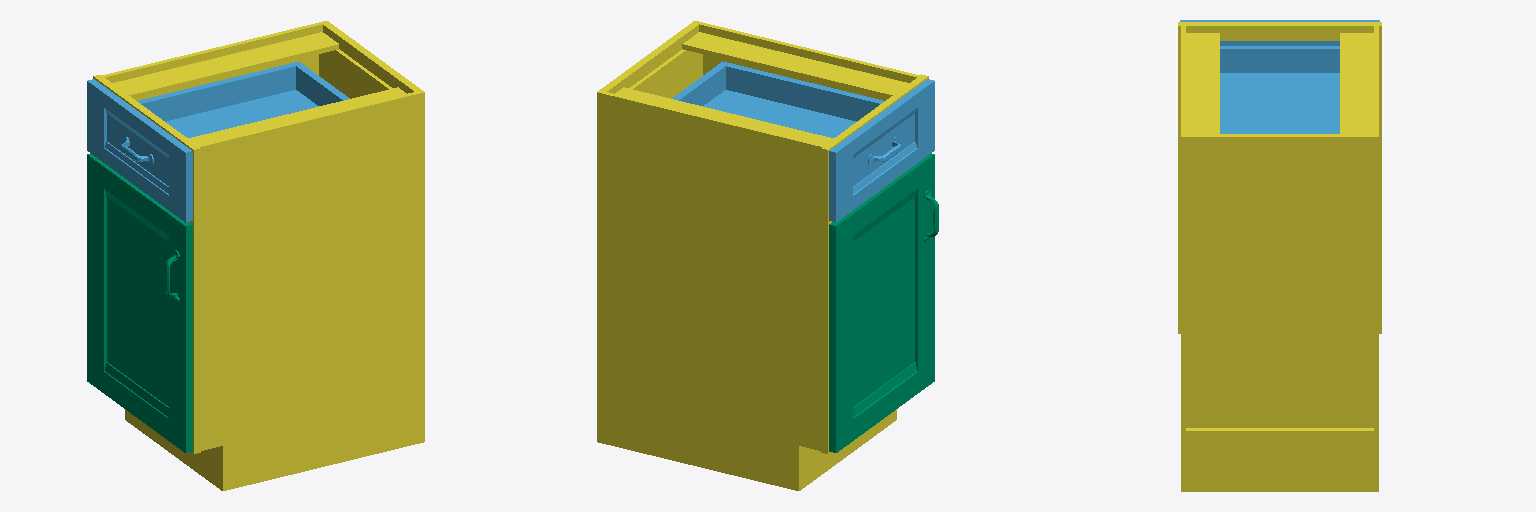
robot.urdf — partnet_1767bd876a8b8c6e4da5feafe6f1c8fc:
<?xml version="1.0" ?>
<robot name="partnet_1767bd876a8b8c6e4da5feafe6f1c8fc">
	<link name="base"/>
	<link name="link_0">
		<visual name="drawer_side-9">
			<origin xyz="0.014150326550357542 -0.537586949200996 -0.49205100536346436"/>
			<geometry>
				<mesh filename="textured_objs/original-30.obj"/>
			</geometry>
		</visual>
		<visual name="drawer_side-10">
			<origin xyz="0.014150326550357542 -0.537586949200996 -0.49205100536346436"/>
			<geometry>
				<mesh filename="textured_objs/original-25.obj"/>
			</geometry>
		</visual>
		<visual name="drawer_back-11">
			<origin xyz="0.014150326550357542 -0.537586949200996 -0.49205100536346436"/>
			<geometry>
				<mesh filename="textured_objs/original-31.obj"/>
			</geometry>
		</visual>
		<visual name="drawer_bottom-12">
			<origin xyz="0.014150326550357542 -0.537586949200996 -0.49205100536346436"/>
			<geometry>
				<mesh filename="textured_objs/original-29.obj"/>
			</geometry>
		</visual>
		<visual name="drawer_bottom-12">
			<origin xyz="0.014150326550357542 -0.537586949200996 -0.49205100536346436"/>
			<geometry>
				<mesh filename="textured_objs/original-28.obj"/>
			</geometry>
		</visual>
		<visual name="drawer_front-13">
			<origin xyz="0.014150326550357542 -0.537586949200996 -0.49205100536346436"/>
			<geometry>
				<mesh filename="textured_objs/original-39.obj"/>
			</geometry>
		</visual>
		<visual name="drawer_front-13">
			<origin xyz="0.014150326550357542 -0.537586949200996 -0.49205100536346436"/>
			<geometry>
				<mesh filename="textured_objs/original-26.obj"/>
			</geometry>
		</visual>
		<visual name="drawer_front-14">
			<origin xyz="0.014150326550357542 -0.537586949200996 -0.49205100536346436"/>
			<geometry>
				<mesh filename="textured_objs/original-40.obj"/>
			</geometry>
		</visual>
		<visual name="drawer_front-14">
			<origin xyz="0.014150326550357542 -0.537586949200996 -0.49205100536346436"/>
			<geometry>
				<mesh filename="textured_objs/original-34.obj"/>
			</geometry>
		</visual>
		<visual name="drawer_front-14">
			<origin xyz="0.014150326550357542 -0.537586949200996 -0.49205100536346436"/>
			<geometry>
				<mesh filename="textured_objs/original-37.obj"/>
			</geometry>
		</visual>
		<visual name="drawer_front-14">
			<origin xyz="0.014150326550357542 -0.537586949200996 -0.49205100536346436"/>
			<geometry>
				<mesh filename="textured_objs/original-35.obj"/>
			</geometry>
		</visual>
		<visual name="drawer_front-14">
			<origin xyz="0.014150326550357542 -0.537586949200996 -0.49205100536346436"/>
			<geometry>
				<mesh filename="textured_objs/original-36.obj"/>
			</geometry>
		</visual>
		<visual name="other_leaf-16">
			<origin xyz="0.014150326550357542 -0.537586949200996 -0.49205100536346436"/>
			<geometry>
				<mesh filename="textured_objs/original-32.obj"/>
			</geometry>
		</visual>
		<visual name="handle-6">
			<origin xyz="0.014150326550357542 -0.537586949200996 -0.49205100536346436"/>
			<geometry>
				<mesh filename="textured_objs/original-41.obj"/>
			</geometry>
		</visual>
		<collision>
			<origin xyz="0.014150326550357542 -0.537586949200996 -0.49205100536346436"/>
			<geometry>
				<mesh filename="textured_objs/original-30.obj"/>
			</geometry>
		</collision>
		<collision>
			<origin xyz="0.014150326550357542 -0.537586949200996 -0.49205100536346436"/>
			<geometry>
				<mesh filename="textured_objs/original-25.obj"/>
			</geometry>
		</collision>
		<collision>
			<origin xyz="0.014150326550357542 -0.537586949200996 -0.49205100536346436"/>
			<geometry>
				<mesh filename="textured_objs/original-31.obj"/>
			</geometry>
		</collision>
		<collision>
			<origin xyz="0.014150326550357542 -0.537586949200996 -0.49205100536346436"/>
			<geometry>
				<mesh filename="textured_objs/original-29.obj"/>
			</geometry>
		</collision>
		<collision>
			<origin xyz="0.014150326550357542 -0.537586949200996 -0.49205100536346436"/>
			<geometry>
				<mesh filename="textured_objs/original-28.obj"/>
			</geometry>
		</collision>
		<collision>
			<origin xyz="0.014150326550357542 -0.537586949200996 -0.49205100536346436"/>
			<geometry>
				<mesh filename="textured_objs/original-39.obj"/>
			</geometry>
		</collision>
		<collision>
			<origin xyz="0.014150326550357542 -0.537586949200996 -0.49205100536346436"/>
			<geometry>
				<mesh filename="textured_objs/original-26.obj"/>
			</geometry>
		</collision>
		<collision>
			<origin xyz="0.014150326550357542 -0.537586949200996 -0.49205100536346436"/>
			<geometry>
				<mesh filename="textured_objs/original-40.obj"/>
			</geometry>
		</collision>
		<collision>
			<origin xyz="0.014150326550357542 -0.537586949200996 -0.49205100536346436"/>
			<geometry>
				<mesh filename="textured_objs/original-34.obj"/>
			</geometry>
		</collision>
		<collision>
			<origin xyz="0.014150326550357542 -0.537586949200996 -0.49205100536346436"/>
			<geometry>
				<mesh filename="textured_objs/original-37.obj"/>
			</geometry>
		</collision>
		<collision>
			<origin xyz="0.014150326550357542 -0.537586949200996 -0.49205100536346436"/>
			<geometry>
				<mesh filename="textured_objs/original-35.obj"/>
			</geometry>
		</collision>
		<collision>
			<origin xyz="0.014150326550357542 -0.537586949200996 -0.49205100536346436"/>
			<geometry>
				<mesh filename="textured_objs/original-36.obj"/>
			</geometry>
		</collision>
		<collision>
			<origin xyz="0.014150326550357542 -0.537586949200996 -0.49205100536346436"/>
			<geometry>
				<mesh filename="textured_objs/original-32.obj"/>
			</geometry>
		</collision>
		<collision>
			<origin xyz="0.014150326550357542 -0.537586949200996 -0.49205100536346436"/>
			<geometry>
				<mesh filename="textured_objs/original-41.obj"/>
			</geometry>
		</collision>
	</link>
	<joint name="joint_0" type="prismatic">
		<origin xyz="-0.014150326550357542 0.537586949200996 0.49205100536346436"/>
		<axis xyz="0 0 1"/>
		<child link="link_0"/>
		<parent link="link_2"/>
		<limit lower="0" upper="0.7599999999999998"/>
	</joint>
	<link name="link_1">
		<visual name="cabinet_door_surface-24">
			<origin xyz="0.3576991815647425 0.5905939936637881 -0.4915551643686961"/>
			<geometry>
				<mesh filename="textured_objs/original-49.obj"/>
			</geometry>
		</visual>
		<visual name="cabinet_door_surface-24">
			<origin xyz="0.3576991815647425 0.5905939936637881 -0.4915551643686961"/>
			<geometry>
				<mesh filename="textured_objs/original-43.obj"/>
			</geometry>
		</visual>
		<visual name="cabinet_door_surface-24">
			<origin xyz="0.3576991815647425 0.5905939936637881 -0.4915551643686961"/>
			<geometry>
				<mesh filename="textured_objs/original-44.obj"/>
			</geometry>
		</visual>
		<visual name="cabinet_door_surface-24">
			<origin xyz="0.3576991815647425 0.5905939936637881 -0.4915551643686961"/>
			<geometry>
				<mesh filename="textured_objs/original-45.obj"/>
			</geometry>
		</visual>
		<visual name="cabinet_door_surface-24">
			<origin xyz="0.3576991815647425 0.5905939936637881 -0.4915551643686961"/>
			<geometry>
				<mesh filename="textured_objs/original-46.obj"/>
			</geometry>
		</visual>
		<visual name="cabinet_door_surface-24">
			<origin xyz="0.3576991815647425 0.5905939936637881 -0.4915551643686961"/>
			<geometry>
				<mesh filename="textured_objs/original-48.obj"/>
			</geometry>
		</visual>
		<visual name="handle-25">
			<origin xyz="0.3576991815647425 0.5905939936637881 -0.4915551643686961"/>
			<geometry>
				<mesh filename="textured_objs/original-50.obj"/>
			</geometry>
		</visual>
		<collision>
			<origin xyz="0.3576991815647425 0.5905939936637881 -0.4915551643686961"/>
			<geometry>
				<mesh filename="textured_objs/original-49.obj"/>
			</geometry>
		</collision>
		<collision>
			<origin xyz="0.3576991815647425 0.5905939936637881 -0.4915551643686961"/>
			<geometry>
				<mesh filename="textured_objs/original-43.obj"/>
			</geometry>
		</collision>
		<collision>
			<origin xyz="0.3576991815647425 0.5905939936637881 -0.4915551643686961"/>
			<geometry>
				<mesh filename="textured_objs/original-44.obj"/>
			</geometry>
		</collision>
		<collision>
			<origin xyz="0.3576991815647425 0.5905939936637881 -0.4915551643686961"/>
			<geometry>
				<mesh filename="textured_objs/original-45.obj"/>
			</geometry>
		</collision>
		<collision>
			<origin xyz="0.3576991815647425 0.5905939936637881 -0.4915551643686961"/>
			<geometry>
				<mesh filename="textured_objs/original-46.obj"/>
			</geometry>
		</collision>
		<collision>
			<origin xyz="0.3576991815647425 0.5905939936637881 -0.4915551643686961"/>
			<geometry>
				<mesh filename="textured_objs/original-48.obj"/>
			</geometry>
		</collision>
		<collision>
			<origin xyz="0.3576991815647425 0.5905939936637881 -0.4915551643686961"/>
			<geometry>
				<mesh filename="textured_objs/original-50.obj"/>
			</geometry>
		</collision>
	</link>
	<joint name="joint_1" type="revolute">
		<origin xyz="-0.3576991815647425 -0.5905939936637881 0.4915551643686961"/>
		<axis xyz="0 -1 0"/>
		<child link="link_1"/>
		<parent link="link_2"/>
		<limit lower="0.0" upper="1.5707963267948966"/>
	</joint>
	<link name="link_2">
		<visual name="shelf-27">
			<origin xyz="0 0 0"/>
			<geometry>
				<mesh filename="textured_objs/original-2.obj"/>
			</geometry>
		</visual>
		<visual name="base_side_panel-18">
			<origin xyz="0 0 0"/>
			<geometry>
				<mesh filename="textured_objs/original-17.obj"/>
			</geometry>
		</visual>
		<visual name="base_side_panel-19">
			<origin xyz="0 0 0"/>
			<geometry>
				<mesh filename="textured_objs/original-19.obj"/>
			</geometry>
		</visual>
		<visual name="base_side_panel-20">
			<origin xyz="0 0 0"/>
			<geometry>
				<mesh filename="textured_objs/original-13.obj"/>
			</geometry>
		</visual>
		<visual name="base_side_panel-21">
			<origin xyz="0 0 0"/>
			<geometry>
				<mesh filename="textured_objs/original-20.obj"/>
			</geometry>
		</visual>
		<visual name="vertical_side_panel-28">
			<origin xyz="0 0 0"/>
			<geometry>
				<mesh filename="textured_objs/original-12.obj"/>
			</geometry>
		</visual>
		<visual name="vertical_side_panel-28">
			<origin xyz="0 0 0"/>
			<geometry>
				<mesh filename="textured_objs/original-11.obj"/>
			</geometry>
		</visual>
		<visual name="vertical_side_panel-29">
			<origin xyz="0 0 0"/>
			<geometry>
				<mesh filename="textured_objs/original-16.obj"/>
			</geometry>
		</visual>
		<visual name="vertical_side_panel-29">
			<origin xyz="0 0 0"/>
			<geometry>
				<mesh filename="textured_objs/original-15.obj"/>
			</geometry>
		</visual>
		<visual name="back_panel-30">
			<origin xyz="0 0 0"/>
			<geometry>
				<mesh filename="textured_objs/original-6.obj"/>
			</geometry>
		</visual>
		<visual name="back_panel-30">
			<origin xyz="0 0 0"/>
			<geometry>
				<mesh filename="textured_objs/original-5.obj"/>
			</geometry>
		</visual>
		<visual name="bottom_panel-31">
			<origin xyz="0 0 0"/>
			<geometry>
				<mesh filename="textured_objs/original-3.obj"/>
			</geometry>
		</visual>
		<visual name="bottom_panel-31">
			<origin xyz="0 0 0"/>
			<geometry>
				<mesh filename="textured_objs/original-9.obj"/>
			</geometry>
		</visual>
		<visual name="frame_vertical_bar-32">
			<origin xyz="0 0 0"/>
			<geometry>
				<mesh filename="textured_objs/original-4.obj"/>
			</geometry>
		</visual>
		<visual name="frame_vertical_bar-33">
			<origin xyz="0 0 0"/>
			<geometry>
				<mesh filename="textured_objs/original-8.obj"/>
			</geometry>
		</visual>
		<visual name="frame_horizontal_bar-34">
			<origin xyz="0 0 0"/>
			<geometry>
				<mesh filename="textured_objs/original-22.obj"/>
			</geometry>
		</visual>
		<visual name="frame_horizontal_bar-35">
			<origin xyz="0 0 0"/>
			<geometry>
				<mesh filename="textured_objs/original-21.obj"/>
			</geometry>
		</visual>
		<visual name="frame_horizontal_bar-36">
			<origin xyz="0 0 0"/>
			<geometry>
				<mesh filename="textured_objs/original-18.obj"/>
			</geometry>
		</visual>
		<visual name="frame_horizontal_bar-37">
			<origin xyz="0 0 0"/>
			<geometry>
				<mesh filename="textured_objs/original-7.obj"/>
			</geometry>
		</visual>
		<visual name="other_leaf-39">
			<origin xyz="0 0 0"/>
			<geometry>
				<mesh filename="textured_objs/original-51.obj"/>
			</geometry>
		</visual>
		<collision>
			<origin xyz="0 0 0"/>
			<geometry>
				<mesh filename="textured_objs/original-2.obj"/>
			</geometry>
		</collision>
		<collision>
			<origin xyz="0 0 0"/>
			<geometry>
				<mesh filename="textured_objs/original-17.obj"/>
			</geometry>
		</collision>
		<collision>
			<origin xyz="0 0 0"/>
			<geometry>
				<mesh filename="textured_objs/original-19.obj"/>
			</geometry>
		</collision>
		<collision>
			<origin xyz="0 0 0"/>
			<geometry>
				<mesh filename="textured_objs/original-13.obj"/>
			</geometry>
		</collision>
		<collision>
			<origin xyz="0 0 0"/>
			<geometry>
				<mesh filename="textured_objs/original-20.obj"/>
			</geometry>
		</collision>
		<collision>
			<origin xyz="0 0 0"/>
			<geometry>
				<mesh filename="textured_objs/original-12.obj"/>
			</geometry>
		</collision>
		<collision>
			<origin xyz="0 0 0"/>
			<geometry>
				<mesh filename="textured_objs/original-11.obj"/>
			</geometry>
		</collision>
		<collision>
			<origin xyz="0 0 0"/>
			<geometry>
				<mesh filename="textured_objs/original-16.obj"/>
			</geometry>
		</collision>
		<collision>
			<origin xyz="0 0 0"/>
			<geometry>
				<mesh filename="textured_objs/original-15.obj"/>
			</geometry>
		</collision>
		<collision>
			<origin xyz="0 0 0"/>
			<geometry>
				<mesh filename="textured_objs/original-6.obj"/>
			</geometry>
		</collision>
		<collision>
			<origin xyz="0 0 0"/>
			<geometry>
				<mesh filename="textured_objs/original-5.obj"/>
			</geometry>
		</collision>
		<collision>
			<origin xyz="0 0 0"/>
			<geometry>
				<mesh filename="textured_objs/original-3.obj"/>
			</geometry>
		</collision>
		<collision>
			<origin xyz="0 0 0"/>
			<geometry>
				<mesh filename="textured_objs/original-9.obj"/>
			</geometry>
		</collision>
		<collision>
			<origin xyz="0 0 0"/>
			<geometry>
				<mesh filename="textured_objs/original-4.obj"/>
			</geometry>
		</collision>
		<collision>
			<origin xyz="0 0 0"/>
			<geometry>
				<mesh filename="textured_objs/original-8.obj"/>
			</geometry>
		</collision>
		<collision>
			<origin xyz="0 0 0"/>
			<geometry>
				<mesh filename="textured_objs/original-22.obj"/>
			</geometry>
		</collision>
		<collision>
			<origin xyz="0 0 0"/>
			<geometry>
				<mesh filename="textured_objs/original-21.obj"/>
			</geometry>
		</collision>
		<collision>
			<origin xyz="0 0 0"/>
			<geometry>
				<mesh filename="textured_objs/original-18.obj"/>
			</geometry>
		</collision>
		<collision>
			<origin xyz="0 0 0"/>
			<geometry>
				<mesh filename="textured_objs/original-7.obj"/>
			</geometry>
		</collision>
		<collision>
			<origin xyz="0 0 0"/>
			<geometry>
				<mesh filename="textured_objs/original-51.obj"/>
			</geometry>
		</collision>
	</link>
	<joint name="joint_2" type="fixed">
		<origin rpy="1.570796326794897 0 -1.570796326794897" xyz="0 0 0"/>
		<child link="link_2"/>
		<parent link="base"/>
	</joint>
</robot>

--- Facts derived from the render (not from the file) ---
The picture shows the robot from 3 angles, left to right: view 1: azimuth 30°, elevation 25°; view 2: azimuth 150°, elevation 25°; view 3: azimuth 270°, elevation 25°; orthographic projection.
Model partnet_1767bd876a8b8c6e4da5feafe6f1c8fc with 4 links and 3 joints (1 revolute, 1 prismatic, 1 fixed), rooted at base, posed all joints at 0.
Visible links, largest first — view 1: link_2, link_1, link_0; view 2: link_2, link_1, link_0; view 3: link_2, link_0.
Boxes of the visible links, bbox=[...] form: link_2: bbox=[93, 21, 424, 490]; link_1: bbox=[87, 153, 192, 452]; link_0: bbox=[87, 62, 349, 222]; link_2: bbox=[597, 21, 928, 490]; link_1: bbox=[829, 153, 938, 452]; link_0: bbox=[672, 61, 934, 222]; link_2: bbox=[1178, 22, 1381, 491]; link_0: bbox=[1180, 20, 1379, 133].
Size in the robot's own frame: 1.09 by 0.7586 by 1.45 metres.
Meshes: 41 distinct files referenced, 41 mesh visuals loaded (41 OBJ).
